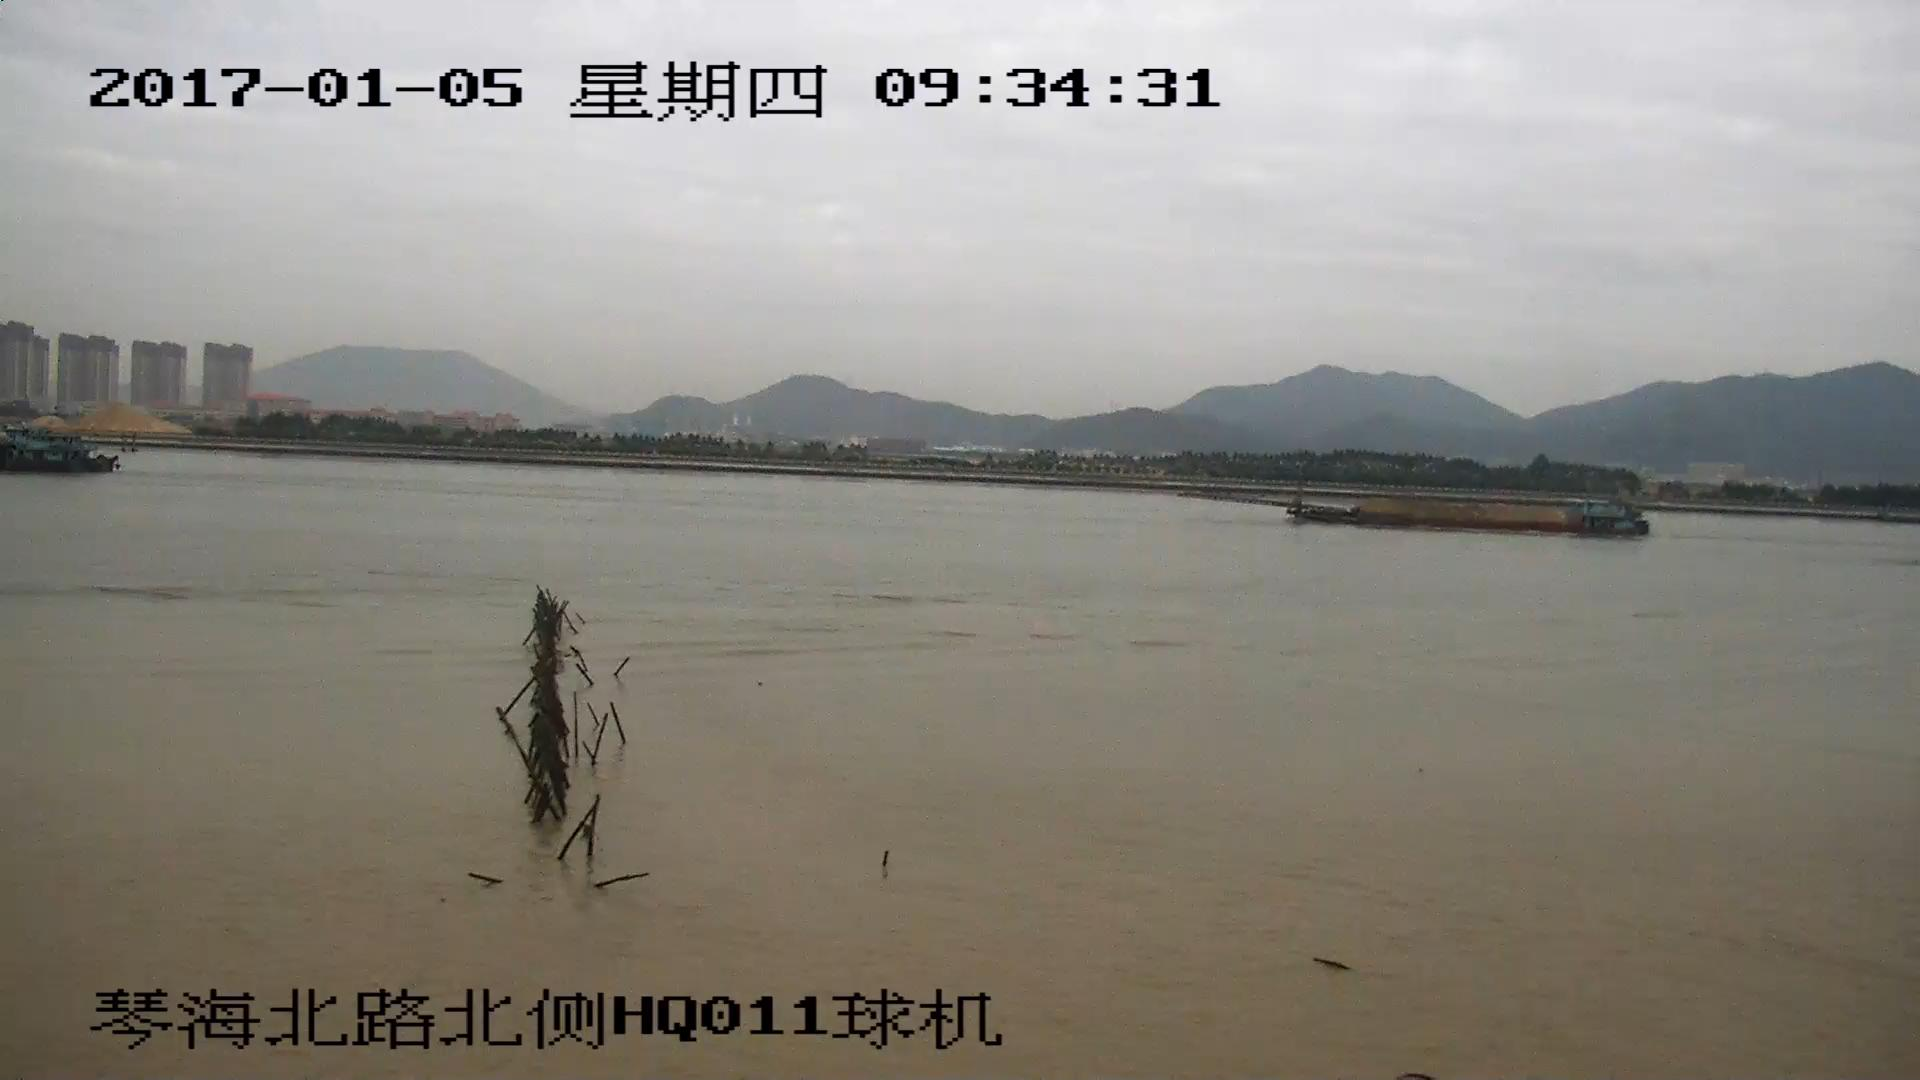ore carrier: (1184, 482, 1644, 534)
